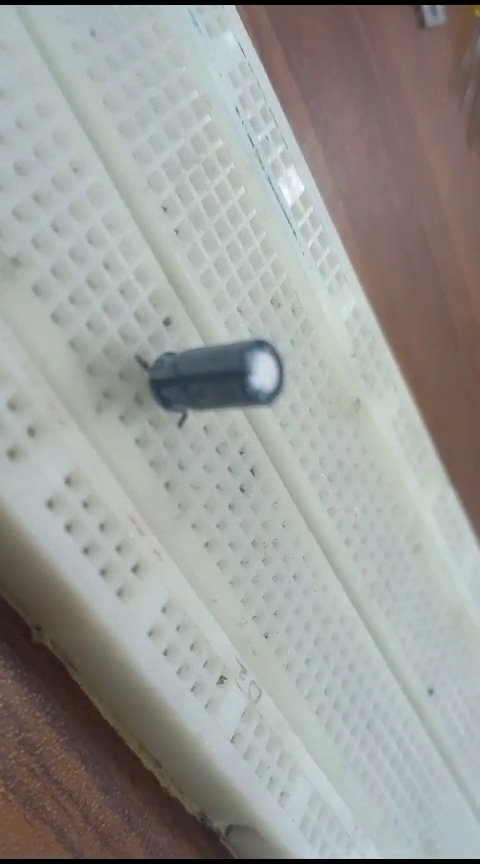capacitor: (119, 325, 292, 431)
